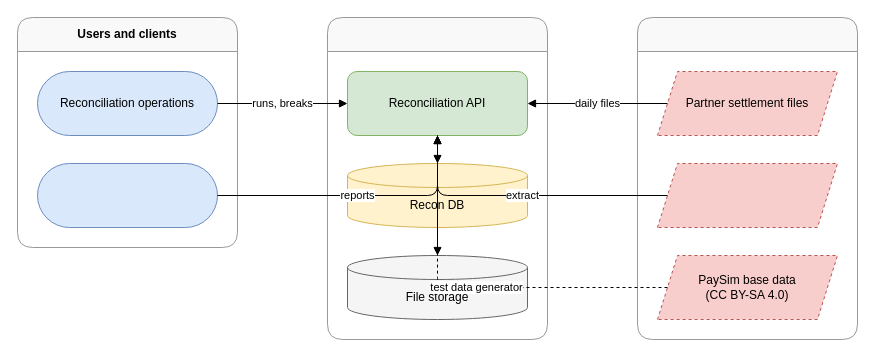
Image size: 875x357. Some labels were removed from this diagram. Each missing label, with the box of its shape:
Core ledger (Capstone 1) extract: (656, 162, 838, 228)
External systems: (636, 16, 858, 340)
Finance: (36, 162, 218, 228)
Settlement reconciliation engine (system boundary): (326, 16, 548, 340)
